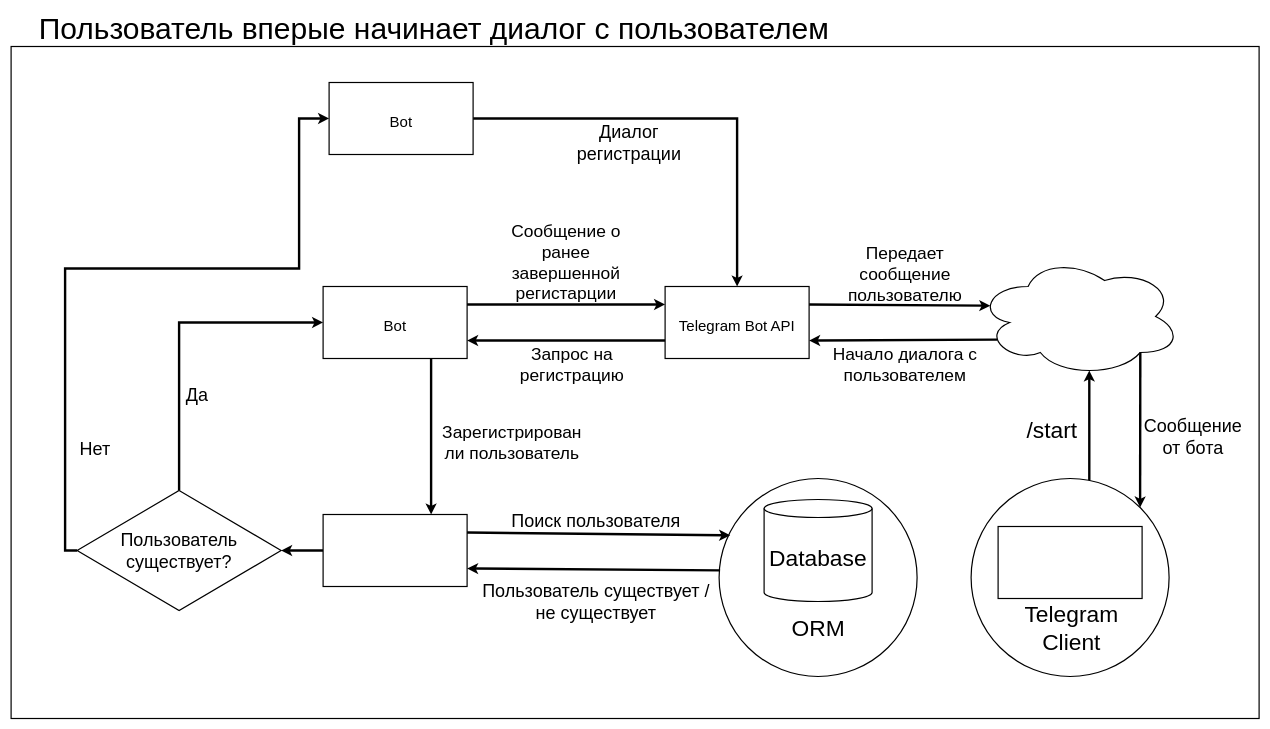
The diagram is 1270 pixels wide and 729 high, and some of its shapes have lost their labels. Each missing label, with the centre of its shape:
"API" belongs at (394,550).
"Telegram Server" belongs at (1078,316).
"User" belongs at (1069,562).
